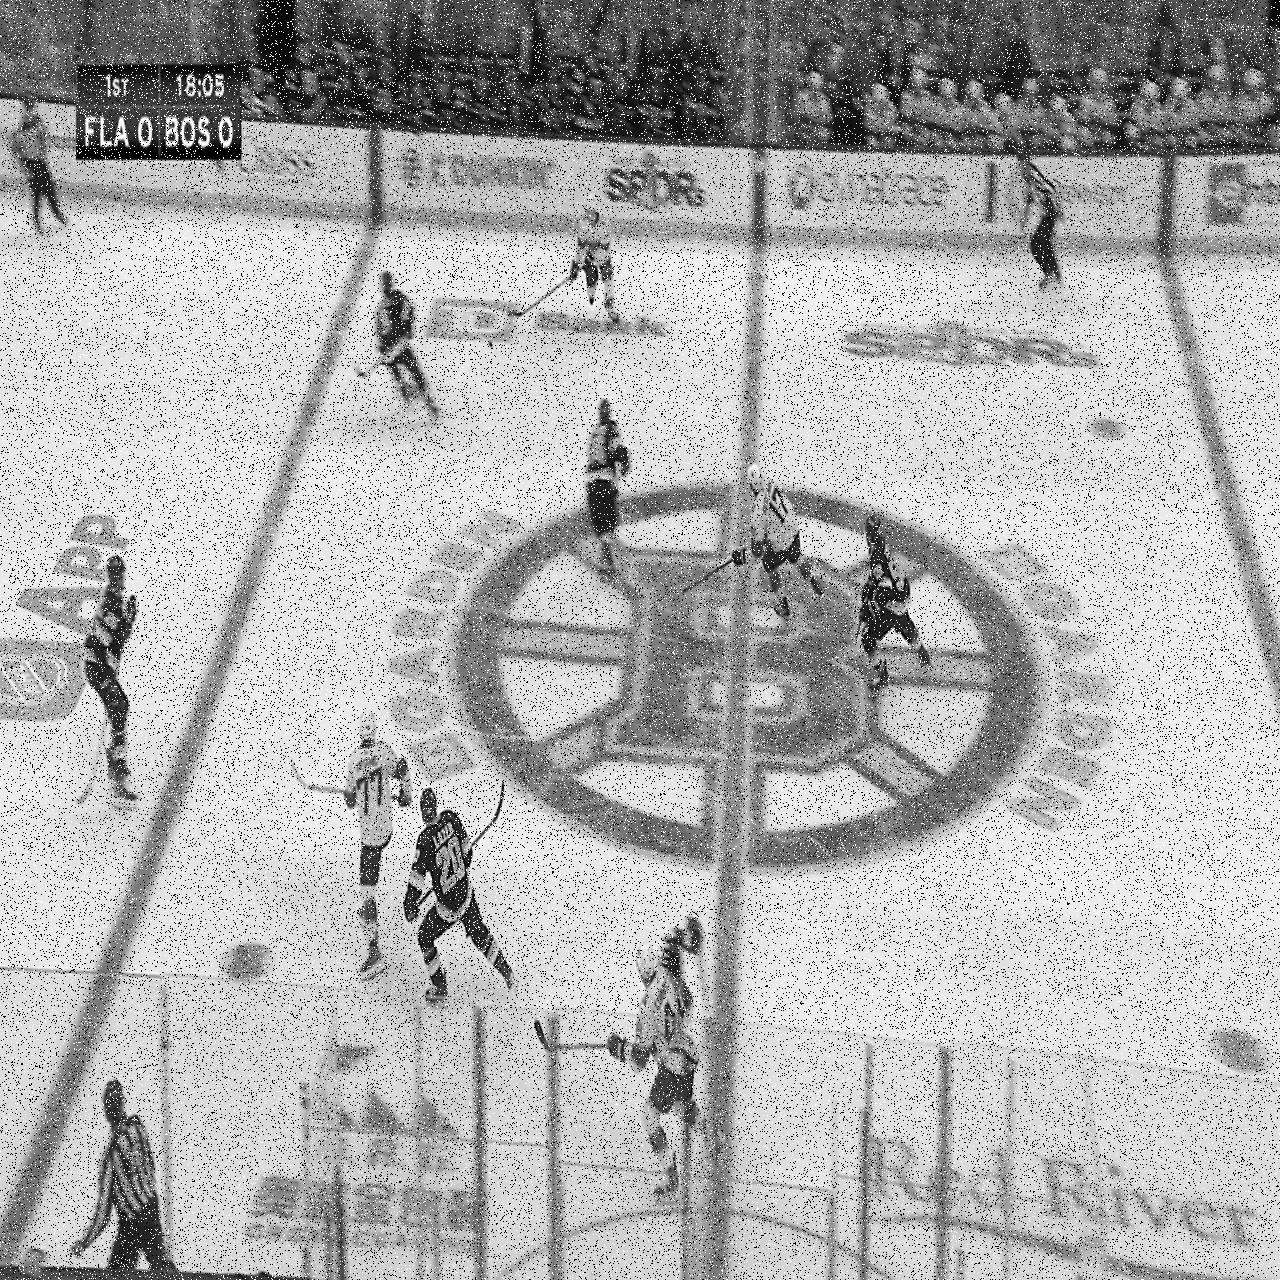Ad: (864, 1121, 1275, 1274), (247, 1039, 482, 1254), (0, 505, 137, 735), (430, 282, 678, 362), (840, 315, 1107, 380), (982, 154, 1132, 225), (787, 155, 951, 215), (427, 144, 560, 204), (608, 149, 716, 217), (1196, 157, 1280, 240), (240, 132, 322, 195)
